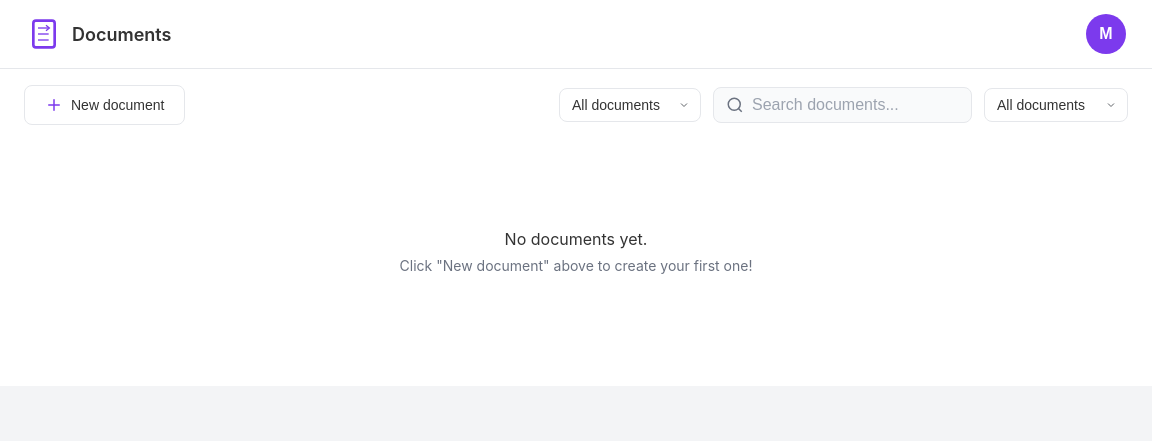
DocList — spaces › shows a move-documents-here empty state inside a space (FR-045)
Select "Platform" in the dropdown named "Space" at (630, 105), box x1=559 y1=88 x2=701 y2=122
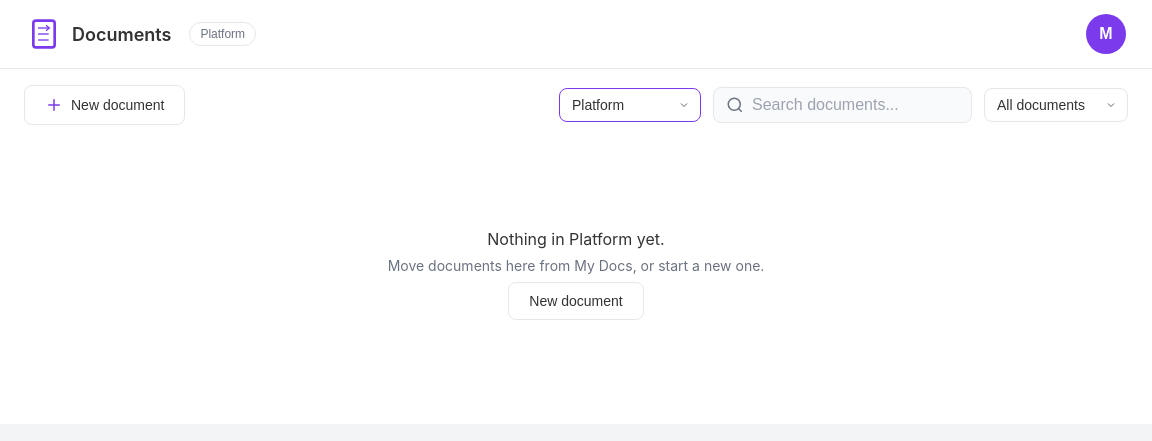
Result: the text "Nothing in Platform yet." is shown at x1=487 y1=229 x2=665 y2=249
Result: the text "Move documents here from My Docs, or start a new one." is shown at x1=388 y1=257 x2=764 y2=274
